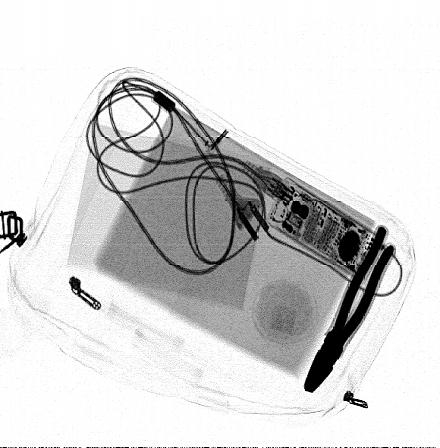Pliers: (302, 225, 396, 394)
